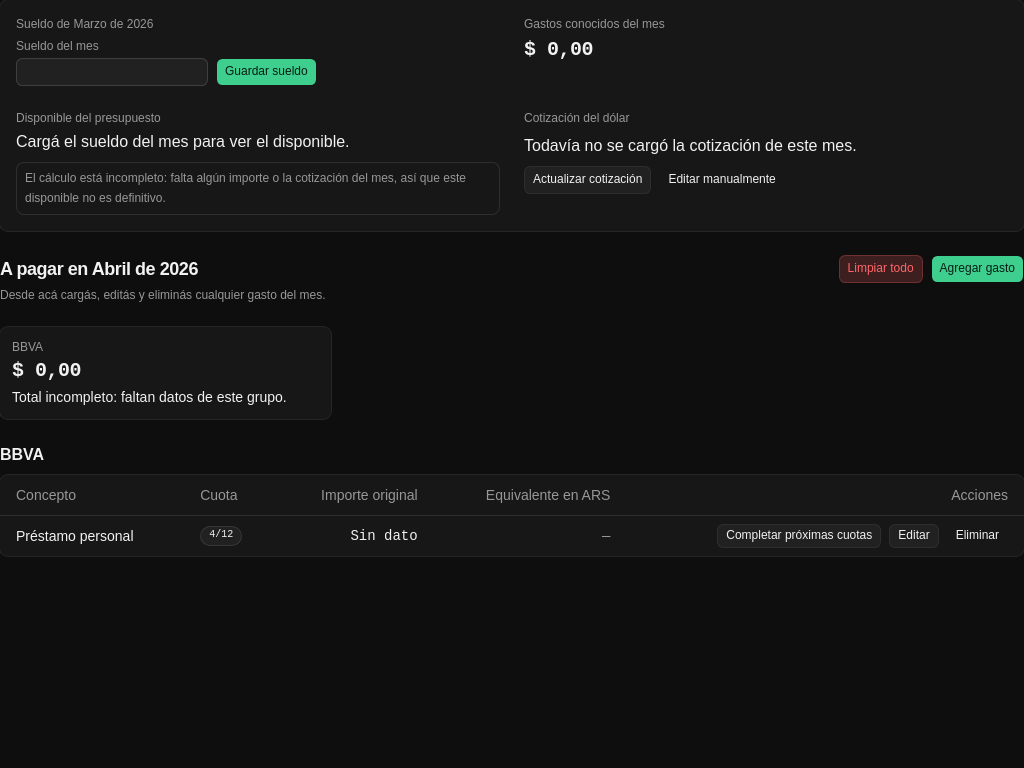
Scenario: préstamos desde Presupuesto › avisa cuántas cuotas ya vencidas siguen sin importe
Click the button "Completar próximas cuotas". click: x=799, y=536
box: 717,524 -> 881,548
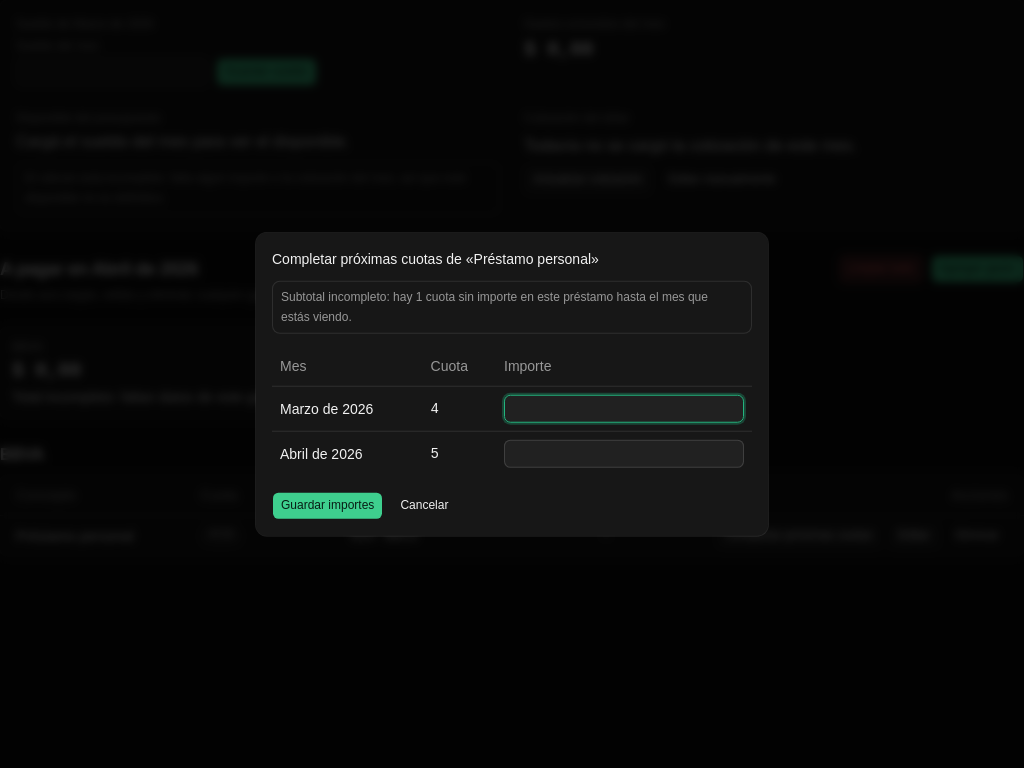
Now the text "Subtotal incompleto: hay 1 cuota sin importe en este préstamo hasta el mes que estás viendo." is shown, box 281,288 -> 743,327
